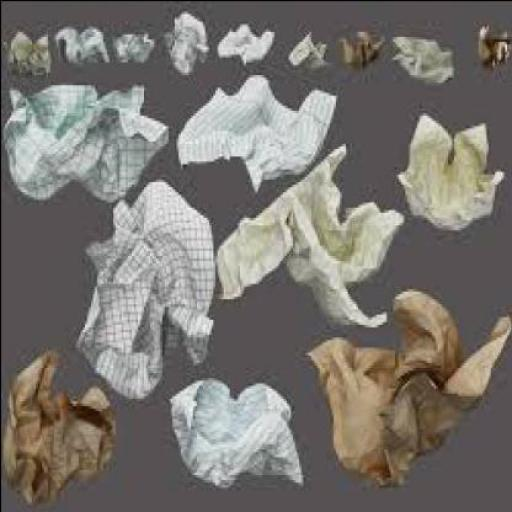paper: (300, 280, 510, 484), (210, 134, 402, 332), (76, 174, 212, 398), (173, 69, 337, 186), (2, 80, 165, 196), (2, 344, 114, 502), (168, 375, 300, 489), (394, 106, 500, 230), (390, 30, 451, 87), (163, 7, 204, 69), (214, 20, 271, 64), (337, 22, 381, 70), (55, 23, 106, 61), (4, 28, 46, 74), (284, 26, 324, 64), (475, 20, 506, 69), (112, 25, 151, 61)
